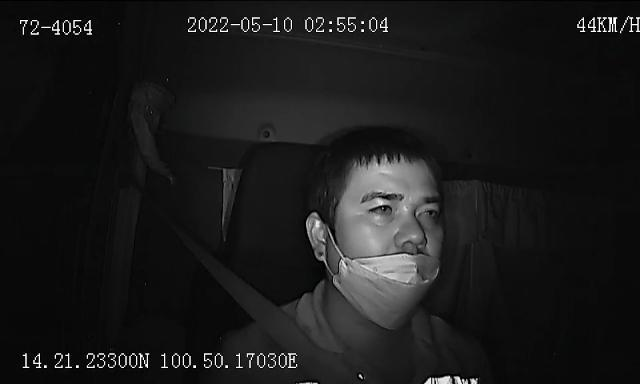SafeDriving: (362, 195, 402, 220), (413, 198, 444, 222)
Seatbelt: (171, 238, 367, 384)
